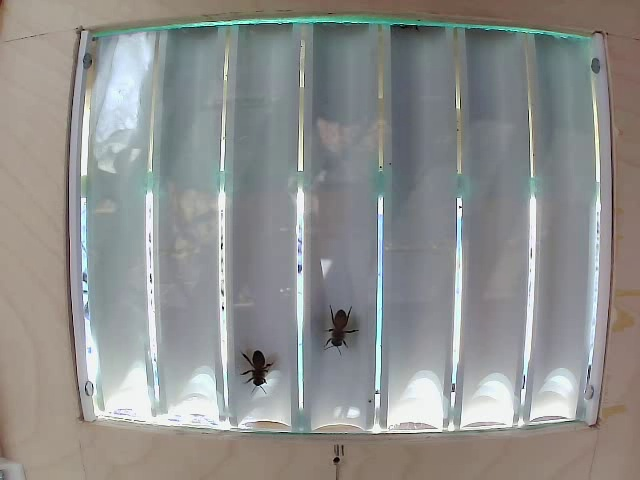bee: (314, 294, 365, 357), (226, 340, 276, 390)
